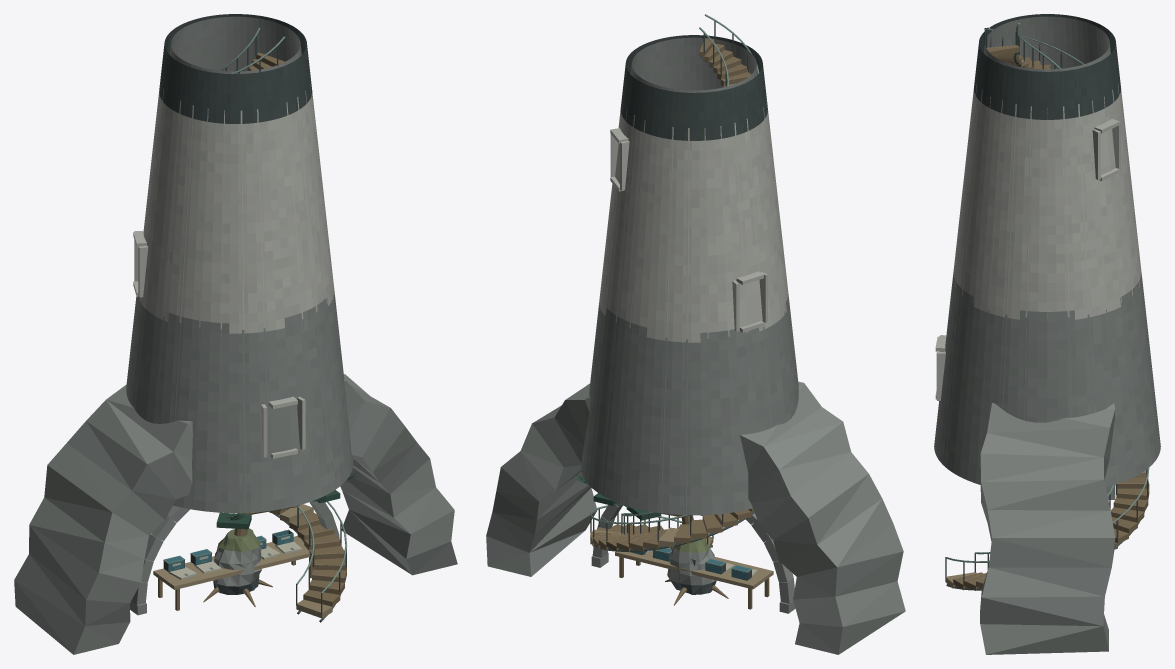
The model's file is landfall.glb.
3 views of the same model, side by side, from view 1: azimuth 30°, elevation 25°; view 2: azimuth 150°, elevation 25°; view 3: azimuth 270°, elevation 25° (orthographic). The views are drawn at different scales.
Parts seen in each view (by area): view 1: towerShaft, headlandArch, towerShaftFar, towerStair, archiveFurniture, vaultRib, towerRails, basaltA, basaltB, windPineFar; view 2: towerShaft, headlandArch, towerShaftFar, towerStair, archiveFurniture, towerRails, vaultRib, basaltB, basaltA; view 3: towerShaft, headlandArch, towerShaftFar, towerStair, towerRails.
Part boxes in pixels (bbox=[...]): towerShaft: bbox=[126, 14, 353, 512]; headlandArch: bbox=[14, 374, 457, 654]; towerShaftFar: bbox=[126, 14, 352, 512]; towerStair: bbox=[247, 52, 346, 618]; archiveFurniture: bbox=[153, 529, 312, 610]; vaultRib: bbox=[130, 501, 339, 615]; towerRails: bbox=[220, 27, 347, 622]; basaltA: bbox=[216, 529, 261, 594]; basaltB: bbox=[213, 528, 261, 593]; windPineFar: bbox=[216, 490, 340, 536]; towerShaft: bbox=[581, 35, 798, 515]; headlandArch: bbox=[486, 381, 905, 654]; towerShaftFar: bbox=[582, 35, 798, 515]; towerStair: bbox=[590, 38, 753, 552]; archiveFurniture: bbox=[615, 547, 773, 609]; towerRails: bbox=[590, 14, 759, 551]; vaultRib: bbox=[591, 503, 795, 613]; basaltB: bbox=[667, 538, 716, 594]; basaltA: bbox=[671, 540, 714, 593]; towerShaft: bbox=[934, 14, 1160, 487]; headlandArch: bbox=[980, 403, 1115, 654]; towerShaftFar: bbox=[937, 14, 1157, 483]; towerStair: bbox=[945, 45, 1149, 590]; towerRails: bbox=[945, 23, 1149, 590].
Bounding box in the file's own units: 15.13 × 21.77 × 8.1.
